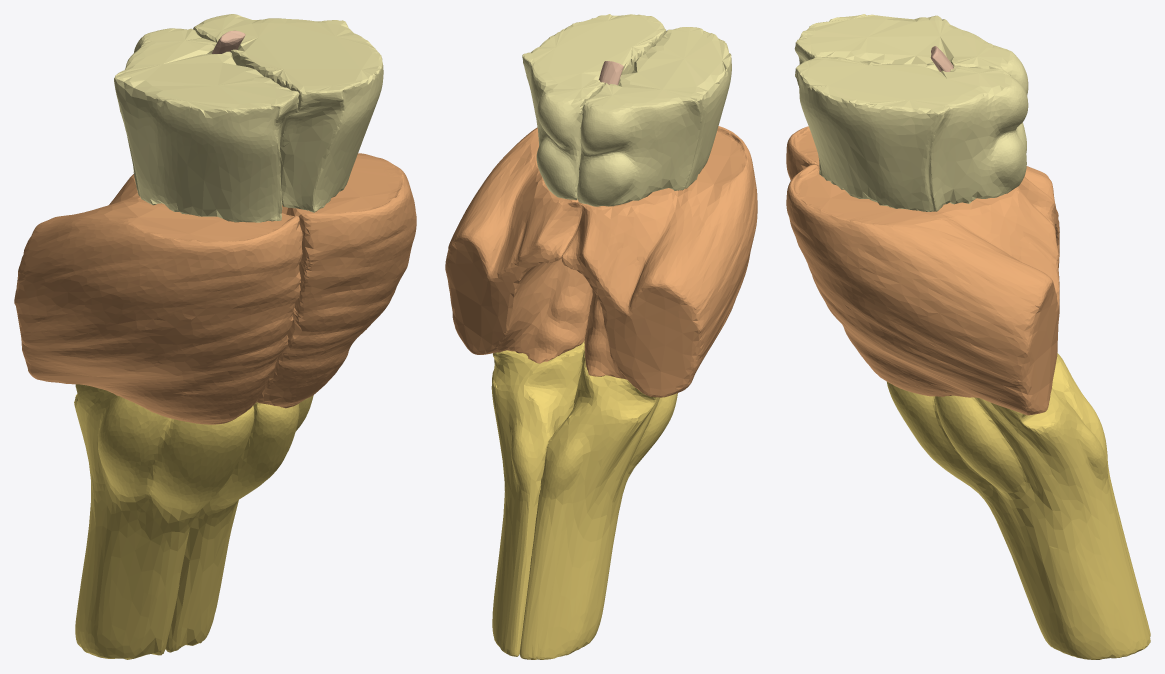
Rendered from tronco_encefalico.glb.
The picture shows the model from 3 angles, left to right: view 1: azimuth 30°, elevation 25°; view 2: azimuth 150°, elevation 25°; view 3: azimuth 270°, elevation 25°; orthographic projection. The views are drawn at different scales.
Parts seen in each view (by area): view 1: pons, midbrain, medulla oblongata; view 2: pons, medulla oblongata, midbrain, cerebral aqueduct; view 3: pons, midbrain, medulla oblongata.
Boxes of the visible parts, <box> form: pons: <box>14,153,416,424</box>; midbrain: <box>114,14,383,222</box>; medulla oblongata: <box>74,384,313,659</box>; pons: <box>445,126,757,397</box>; medulla oblongata: <box>491,340,677,659</box>; midbrain: <box>522,14,731,206</box>; cerebral aqueduct: <box>599,61,623,85</box>; pons: <box>786,126,1059,415</box>; midbrain: <box>794,14,1028,211</box>; medulla oblongata: <box>887,353,1150,659</box>.
Size of the model in its own units: 42.01 by 81.83 by 45.62.
